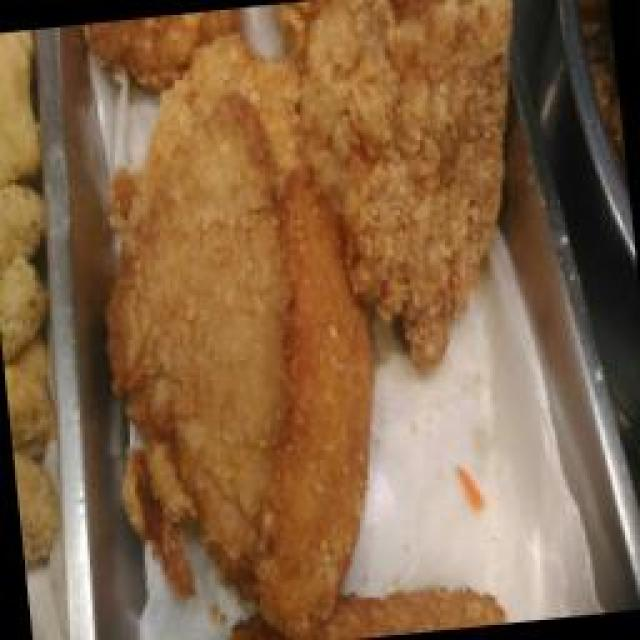Wet Waste: (68, 32, 338, 592), (272, 0, 550, 390), (0, 28, 50, 198)
